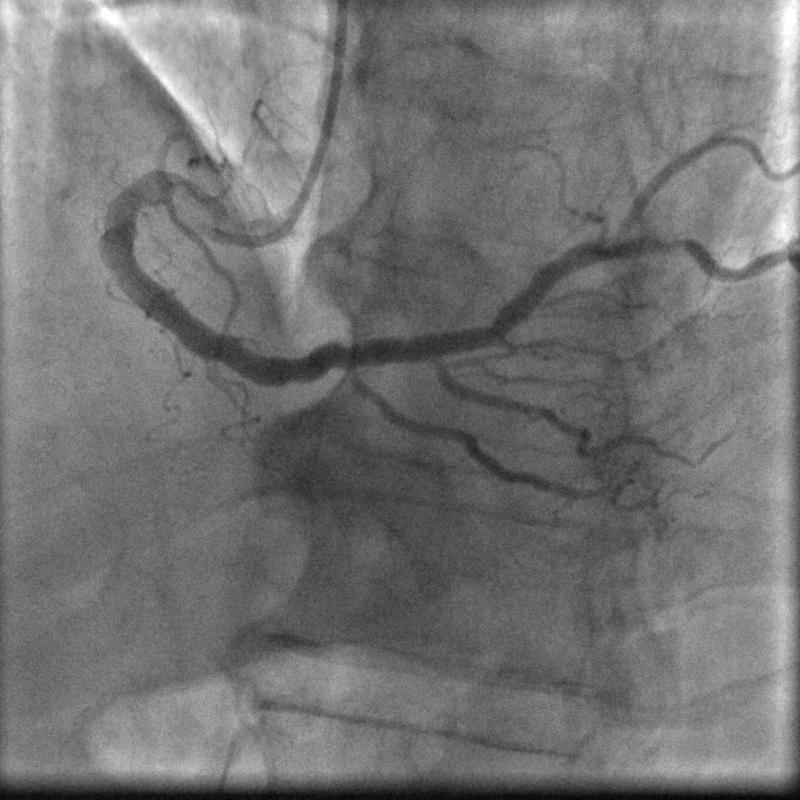Stenosis: (636, 228, 699, 254)
